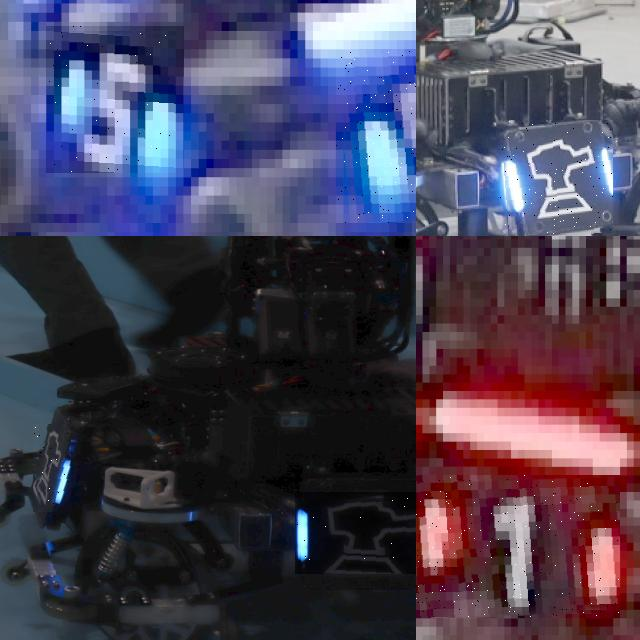B5: (46, 26, 184, 173), (335, 49, 416, 222)
Bs: (500, 120, 613, 236), (295, 492, 416, 574), (34, 424, 74, 512)
R1: (416, 475, 620, 618)
